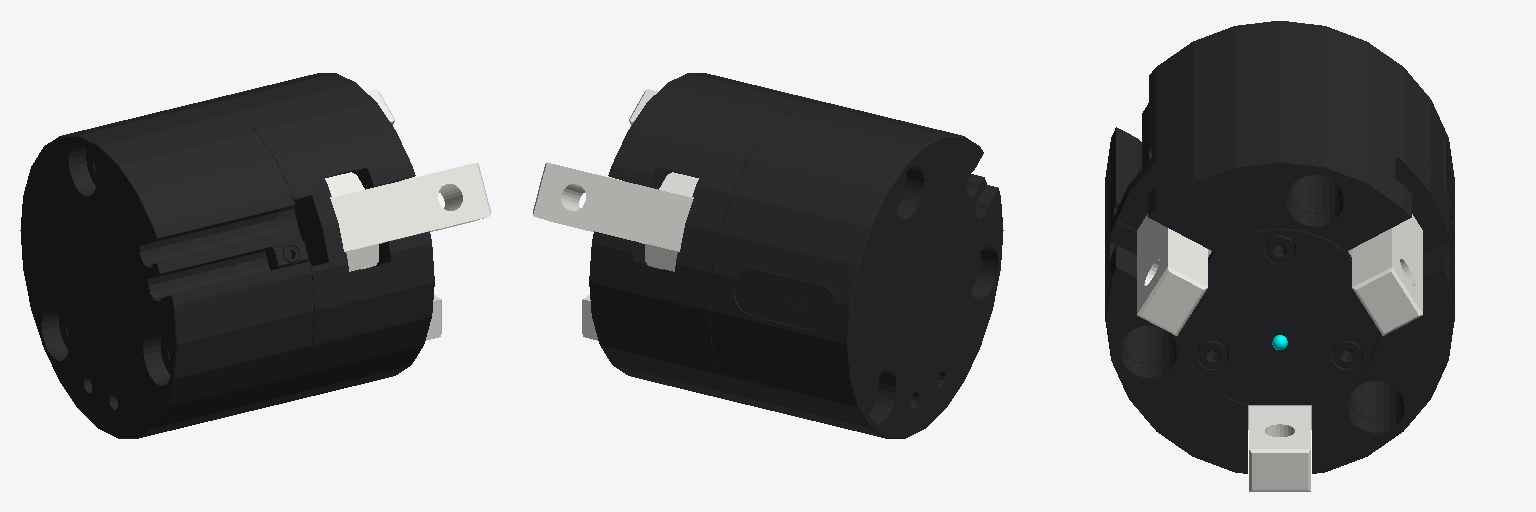
The robot description file, URDF, robot "schunk_mpz45":
<?xml version="1.0" encoding="utf-8"?>
<!-- =================================================================================== -->
<!-- |    This document was autogenerated by xacro from schunk_mpz45.xacro             | -->
<!-- |    EDITING THIS FILE BY HAND IS NOT RECOMMENDED                                 | -->
<!-- =================================================================================== -->
<robot name="schunk_mpz45">

  <gazebo>
    <plugin name="gazebo_ros_control" filename="libgazebo_ros_control.so">
      <robotNamespace>/schunk_mpz45</robotNamespace>
    </plugin>
  </gazebo>
  <!-- Conversion were obtained from http://www.e-paint.co.uk/Lab_values.asp
       unless otherwise stated. -->
  <link name="dummy">
  </link>

  <link name="head">
    <inertial>
      <mass value="1"/>
      <origin rpy="1.57079632679 0  -1.57079632679" xyz="0 0 0"/>
      <inertia ixx="0.001" ixy="0" ixz="0" iyy="0.001" iyz="0" izz="0.001"/>
    </inertial>
    <visual>
      <origin rpy="0 0 -1.57079632679" xyz="0 0 0"/>
      <geometry>
        <mesh filename="package://schunk_mpz45/stl/SchunkGripperNoGripperCorrect.stl"/>
      </geometry>
      <material name="">
        <color rgba="0.1882353 0.1960784 0.2039216 1"/>
      </material>
    </visual>
    <collision>
      <origin rpy="0 0 -1.57079632679" xyz="0 0 0"/>
      <geometry>
        <mesh filename="package://schunk_mpz45/stl/SchunkGripperNoGripperCorrect.stl"/>
      </geometry>
      <material name="">
        <color rgba="1 1 0 1"/>
      </material>
    </collision>
  </link>
  <link name="gripper1">
    <inertial>
      <mass value="1"/>
      <origin rpy="1.57079632679 0  -1.57079632679" xyz="0 0 0"/>
      <inertia ixx="0.001" ixy="0" ixz="0" iyy="0.001" iyz="0" izz="0.001"/>
    </inertial>
    <visual>
      <origin rpy="1.57079632679 0  -1.57079632679" xyz="0 0 0"/>
      <geometry>
        <mesh filename="package://schunk_mpz45/stl/SchunkSingleGripper3.stl"/>
      </geometry>
      <material name="">
        <color rgba="0.9254902 0.9254902 0.9058824 1"/>
      </material>
    </visual>
    <collision>
      <origin rpy="1.57079632679 0  -1.57079632679" xyz="0 0 0"/>
      <geometry>
        <mesh filename="package://schunk_mpz45/stl/SchunkSingleGripper3.stl"/>
      </geometry>
      <material name="">
        <color rgba="1 1 0 1"/>
      </material>
    </collision>
  </link>
  <link name="gripper2">
    <inertial>
      <mass value="1"/>
      <origin rpy="1.57079632679 0  -1.57079632679" xyz="0 0 0"/>
      <inertia ixx="0.001" ixy="0" ixz="0" iyy="0.001" iyz="0" izz="0.001"/>
    </inertial>
    <visual>
      <origin rpy="1.57079632679 0  -1.57079632679" xyz="0 0 0"/>
      <geometry>
        <mesh filename="package://schunk_mpz45/stl/SchunkSingleGripper3.stl"/>
      </geometry>
      <material name="">
        <color rgba="0.9254902 0.9254902 0.9058824 1"/>
      </material>
    </visual>
    <collision>
      <origin rpy="1.57079632679 0  -1.57079632679" xyz="0 0 0"/>
      <geometry>
        <mesh filename="package://schunk_mpz45/stl/SchunkSingleGripper3.stl"/>
      </geometry>
      <material name="">
        <color rgba="1 1 0 1"/>
      </material>
    </collision>
  </link>
  <link name="gripper3">
    <inertial>
      <mass value="1"/>
      <origin rpy="1.57079632679 0  -1.57079632679" xyz="0 0 0"/>
      <inertia ixx="0.001" ixy="0" ixz="0" iyy="0.001" iyz="0" izz="0.001"/>
    </inertial>
    <visual>
      <origin rpy="1.57079632679 0  -1.57079632679" xyz="0 0 0"/>
      <geometry>
        <mesh filename="package://schunk_mpz45/stl/SchunkSingleGripper3.stl"/>
      </geometry>
      <material name="">
        <color rgba="0.9254902 0.9254902 0.9058824 1"/>
      </material>
    </visual>
    <collision>
      <origin rpy="1.57079632679 0  -1.57079632679" xyz="0 0 0"/>
      <geometry>
        <mesh filename="package://schunk_mpz45/stl/SchunkSingleGripper3.stl"/>
      </geometry>
      <material name="">
        <color rgba="1 1 0 1"/>
      </material>
    </collision>
  </link>
  <link name="eef">
    <visual>
      <origin rpy="0 0 0" xyz="0 0 0"/>
      <geometry>
        <sphere radius="0.001"/>
      </geometry>
      <material name="Cyan">
        <color rgba="0 1.0 1.0 1.0"/>
      </material>
    </visual>
  </link>
  <joint name="dummy" type="fixed">
    <parent link="dummy"/>
    <child link="head"/>
  </joint>
  <joint name="joint_7" type="prismatic">
    <origin rpy="-1.57079632679 -2.61799387799 -1.57079632679" xyz="0 0 0"/>
    <parent link="head"/>
    <child link="gripper1"/>
    <limit effort="310" lower="0" upper="0.005" velocity="0.1"/>
  </joint>
  <joint name="joint_8" type="prismatic">
    <origin rpy="-1.57079632679 -0.523598775598 -1.57079632679" xyz="0 0 0"/>
    <parent link="head"/>
    <child link="gripper2"/>
    <limit effort="310" lower="0" upper="0.005" velocity="0.1"/>
    <mimic joint="joint_7"/>
  </joint>
  <joint name="joint_9" type="prismatic">
    <origin rpy="0 1.57079632679 0" xyz="0 0 0"/>
    <parent link="head"/>
    <child link="gripper3"/>
    <limit effort="310" lower="0" upper="0.005" velocity="0.1"/>
    <mimic joint="joint_7"/>
  </joint>
  <joint name="eef-head" type="fixed">
    <origin rpy="0 0 0" xyz="0.05 0 0"/>
    <parent link="head"/>
    <child link="eef"/>
  </joint>
  <!-- transmission list -->
  <transmission name="tran7">
    <type>transmission_interface/SimpleTransmission</type>
    <joint name="joint_7">
      <hardwareInterface>hardware_interface/EffortJointInterface</hardwareInterface>
    </joint>
    <actuator name="motor7">
      <hardwareInterface>hardware_interface/EffortJointInterface</hardwareInterface>
      <mechanicalReduction>1</mechanicalReduction>
    </actuator>
  </transmission>
  <transmission name="tran8">
    <type>transmission_interface/SimpleTransmission</type>
    <joint name="joint_8">
      <hardwareInterface>hardware_interface/EffortJointInterface</hardwareInterface>
    </joint>
    <actuator name="motor8">
      <hardwareInterface>hardware_interface/EffortJointInterface</hardwareInterface>
      <mechanicalReduction>1</mechanicalReduction>
    </actuator>
  </transmission>
  <transmission name="tran9">
    <type>transmission_interface/SimpleTransmission</type>
    <joint name="joint_9">
      <hardwareInterface>hardware_interface/EffortJointInterface</hardwareInterface>
    </joint>
    <actuator name="motor9">
      <hardwareInterface>hardware_interface/EffortJointInterface</hardwareInterface>
      <mechanicalReduction>1</mechanicalReduction>
    </actuator>
  </transmission>
  <!-- end of transmission list -->
  <!-- Gazebo-specific link properties -->
  <gazebo reference="head">
    <material>Gazebo/Grey</material>
    <turnGravityOff>true</turnGravityOff>
  </gazebo>
  <gazebo reference="gripper1">
    <material>Gazebo/White</material>
    <turnGravityOff>true</turnGravityOff>
  </gazebo>
  <gazebo reference="gripper2">
    <material>Gazebo/White</material>
    <turnGravityOff>true</turnGravityOff>
  </gazebo>
  <gazebo reference="gripper3">
    <material>Gazebo/White</material>
    <turnGravityOff>true</turnGravityOff>
  </gazebo>
  <!-- ros_control plugin -->
</robot>

--- What the picture shows (computed from the rendered views, not written in the file) ---
Views: 3 orthographic renders of the robot side by side, from view 1: azimuth 30°, elevation 25°; view 2: azimuth 150°, elevation 25°; view 3: azimuth 270°, elevation 25°.
Robot: schunk_mpz45 — 6 links, 5 joints (3 prismatic, 2 fixed); root link dummy; default pose: every joint at zero.
Links seen in each view (by area): view 1: head, gripper2; view 2: head, gripper1; view 3: head, gripper1, gripper2, gripper3.
Link boxes in pixels (x1,y1,x2,y2): head: [20, 73, 434, 438]; gripper2: [325, 163, 490, 271]; head: [589, 73, 1003, 438]; gripper1: [533, 163, 698, 271]; head: [1105, 21, 1454, 473]; gripper1: [1348, 214, 1422, 335]; gripper2: [1137, 214, 1211, 335]; gripper3: [1248, 405, 1311, 491].
Size in the robot's own frame: 0.055 by 0.045 by 0.045 metres.
4 mesh visuals loaded from 2 distinct referenced files (2 binary STL).
